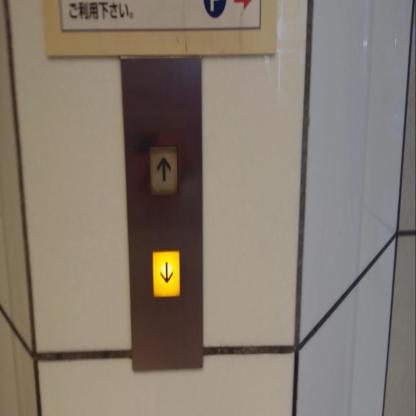down: (150, 247, 182, 301)
up: (147, 140, 180, 200)
